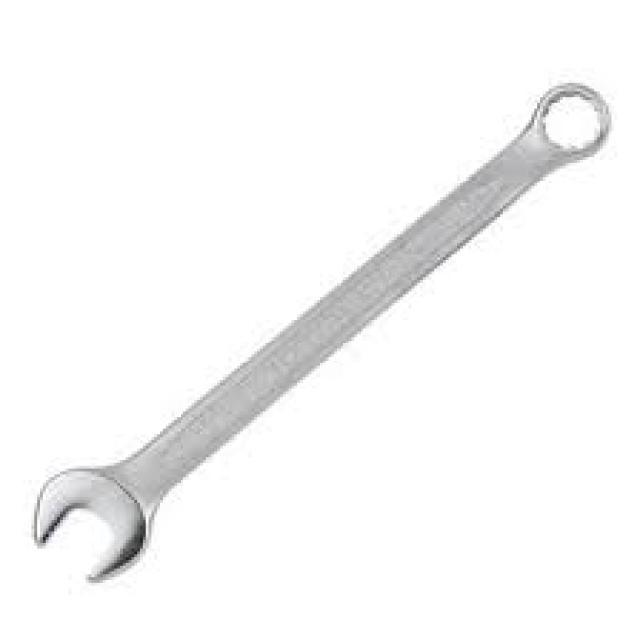wrench: (26, 78, 617, 587)
